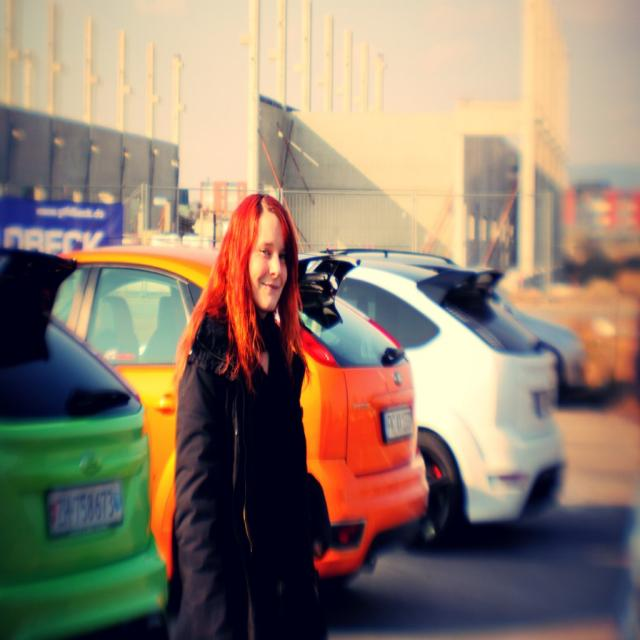car: (46, 245, 431, 597), (0, 243, 169, 638), (308, 245, 580, 399)
